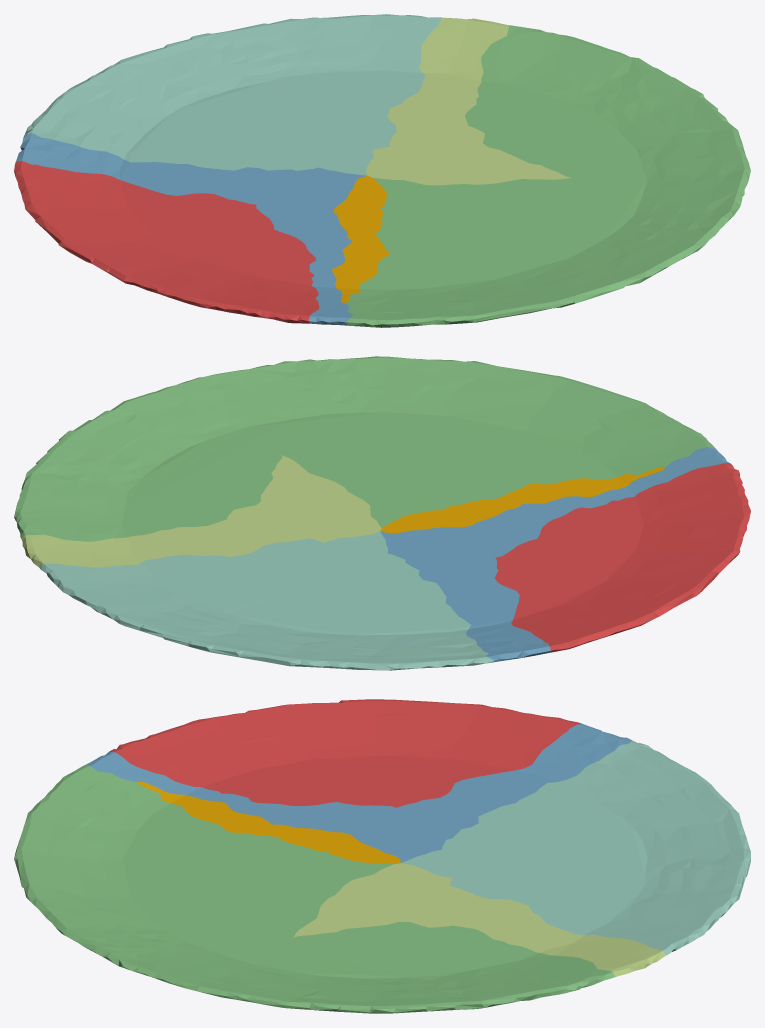
File: fractured_42_6pcs.glb
3 renders of one model, top to bottom at view 1: azimuth 30°, elevation 25°; view 2: azimuth 150°, elevation 25°; view 3: azimuth 270°, elevation 25°, orthographic.
Visible parts, largest first — view 1: piece_3.obj, piece_4.obj, piece_1.obj, piece_2.obj, piece_5.obj, piece_0.obj; view 2: piece_3.obj, piece_4.obj, piece_1.obj, piece_2.obj, piece_5.obj, piece_0.obj; view 3: piece_3.obj, piece_4.obj, piece_1.obj, piece_2.obj, piece_5.obj, piece_0.obj.
Boxes of the visible parts, x1=… form: piece_3.obj: x1=345, y1=25, x2=750, y2=327; piece_4.obj: x1=24, y1=14, x2=441, y2=175; piece_1.obj: x1=14, y1=161, x2=319, y2=323; piece_2.obj: x1=16, y1=133, x2=366, y2=325; piece_5.obj: x1=366, y1=17, x2=572, y2=185; piece_0.obj: x1=332, y1=176, x2=389, y2=303; piece_3.obj: x1=14, y1=356, x2=714, y2=541; piece_4.obj: x1=40, y1=531, x2=494, y2=670; piece_1.obj: x1=494, y1=463, x2=750, y2=652; piece_2.obj: x1=380, y1=447, x2=730, y2=662; piece_5.obj: x1=21, y1=455, x2=381, y2=567; piece_0.obj: x1=380, y1=466, x2=665, y2=533; piece_3.obj: x1=14, y1=764, x2=615, y2=1013; piece_4.obj: x1=401, y1=740, x2=750, y2=955; piece_1.obj: x1=109, y1=699, x2=581, y2=807; piece_2.obj: x1=86, y1=724, x2=631, y2=862; piece_5.obj: x1=294, y1=863, x2=666, y2=976; piece_0.obj: x1=137, y1=782, x2=400, y2=863.
Size of the model in its own units: 1 by 0.0296 by 0.998.
